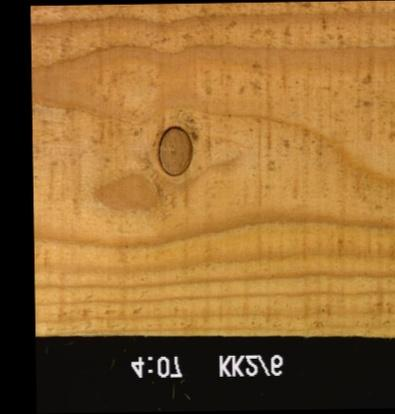dry_knot: (153, 124, 192, 176)
